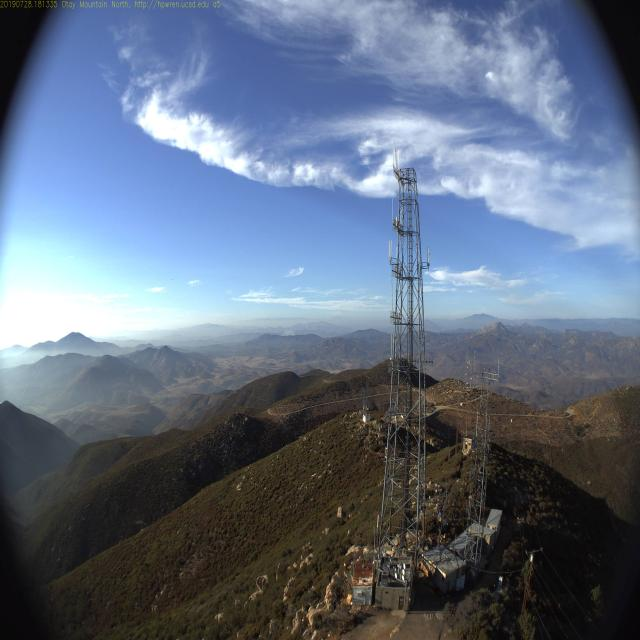smoke: (278, 318, 301, 346)
